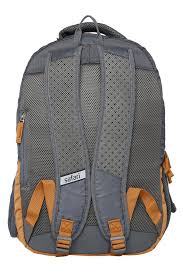backpack: (7, 14, 176, 256)
